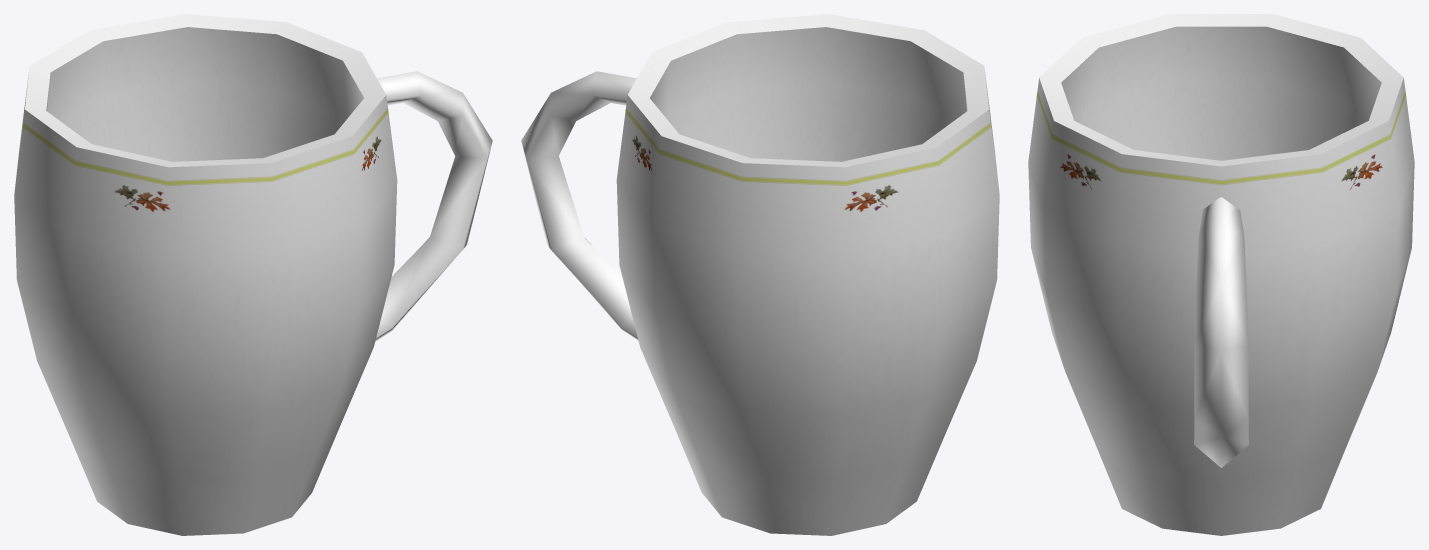
File: M_Home_Garden_coffee_cup.fbx
The picture shows the model from 3 angles, left to right: view 1: azimuth 30°, elevation 25°; view 2: azimuth 150°, elevation 25°; view 3: azimuth 270°, elevation 25°; orthographic projection.
Visible parts, largest first — view 1: M_Home_Garden_coffee_cup; view 2: M_Home_Garden_coffee_cup; view 3: M_Home_Garden_coffee_cup.
Part boxes in pixels (left/top/right/bottom): M_Home_Garden_coffee_cup: left=14, top=14, right=492, bottom=535; M_Home_Garden_coffee_cup: left=521, top=14, right=999, bottom=535; M_Home_Garden_coffee_cup: left=1028, top=14, right=1414, bottom=535.
Bounding box in the file's own units: 11.82 × 10.01 × 8.74.
